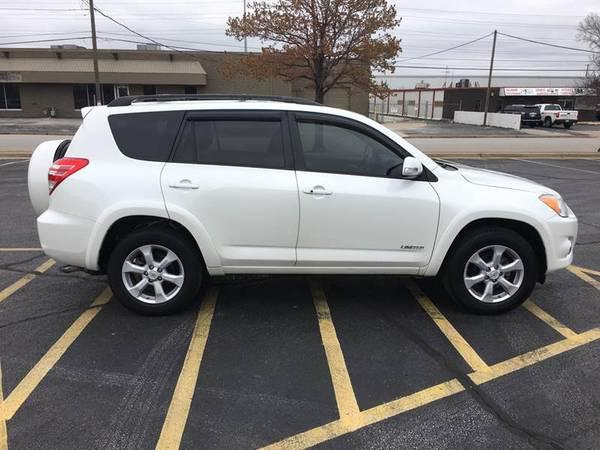Front_Bumper: (535, 213, 577, 273)
Front_Fender: (423, 166, 558, 273)
Front_Right_Door: (296, 169, 444, 274)
Front_Right_Window: (289, 112, 435, 180)
Hood: (439, 159, 555, 193)
Rear_Bumper: (34, 210, 108, 273)
Rear_Fender: (47, 112, 185, 224)
Rear_Right_Door: (160, 162, 300, 274)
Rear_Right_Window: (164, 110, 293, 170)
Right_Headlight: (539, 191, 571, 217)
Right_Taillight: (48, 156, 88, 193)
Roof: (63, 97, 441, 178)
Wheel: (449, 224, 541, 313), (105, 228, 199, 314)
